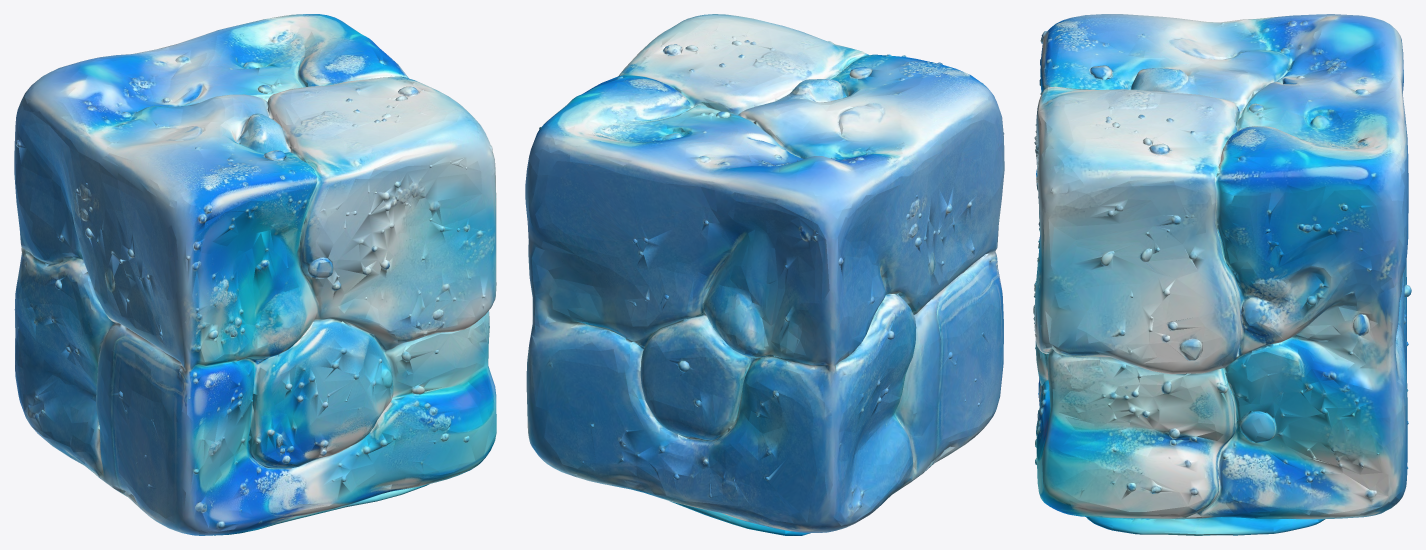
The model's file is buz_kup_2.glb.
3 renders of one model, left to right at view 1: azimuth 30°, elevation 25°; view 2: azimuth 150°, elevation 25°; view 3: azimuth 270°, elevation 25°, orthographic. The views are drawn at different scales.
Visible parts, largest first — view 1: tripo_node_233fe0d1-993b-48df-8c99-7d475dff2f1f; view 2: tripo_node_233fe0d1-993b-48df-8c99-7d475dff2f1f; view 3: tripo_node_233fe0d1-993b-48df-8c99-7d475dff2f1f.
Boxes of the visible parts, x1=… form: tripo_node_233fe0d1-993b-48df-8c99-7d475dff2f1f: x1=14, y1=14, x2=496, y2=535; tripo_node_233fe0d1-993b-48df-8c99-7d475dff2f1f: x1=525, y1=14, x2=1004, y2=535; tripo_node_233fe0d1-993b-48df-8c99-7d475dff2f1f: x1=1033, y1=14, x2=1411, y2=535.
Size of the model in its own units: 0.9144 by 0.9809 by 0.8726.
1 material, 1 textured.
